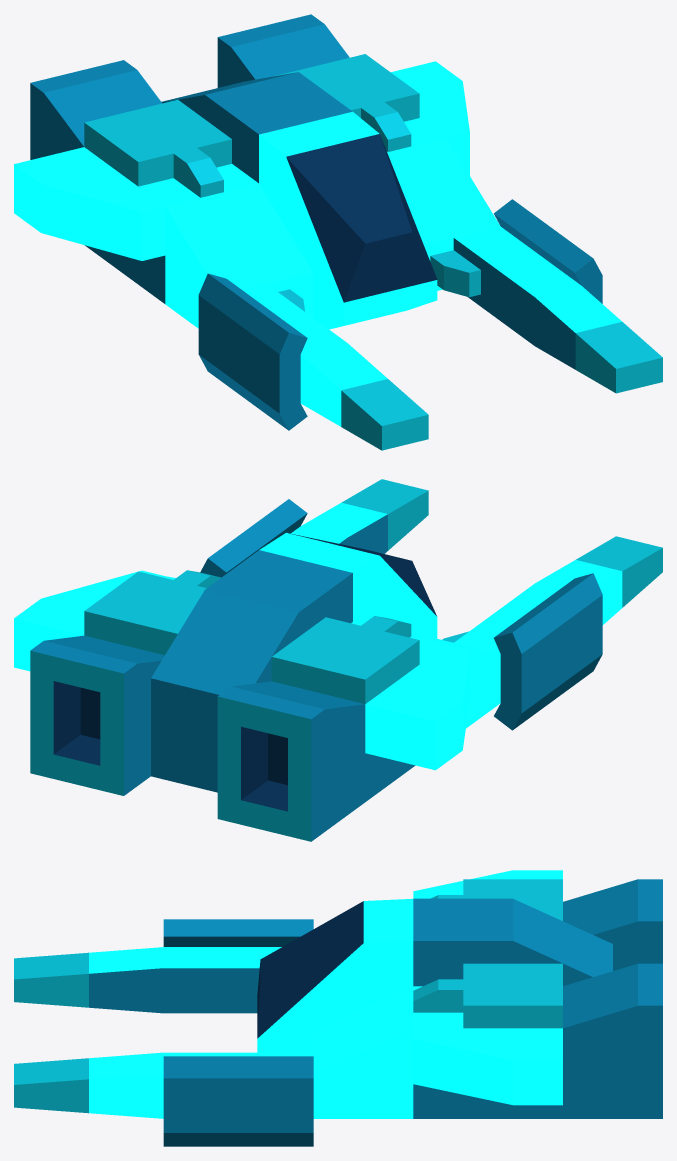
Rendered from ocean.dae.
3 renders of one model, top to bottom at view 1: azimuth 30°, elevation 25°; view 2: azimuth 150°, elevation 25°; view 3: azimuth 270°, elevation 25°, orthographic. The views are drawn at different scales.
Visible parts, largest first — view 1: craft_miner; view 2: craft_miner; view 3: craft_miner.
Boxes of the visible parts, left/top/right/bottom form: craft_miner: left=14, top=14, right=662, bottom=450; craft_miner: left=14, top=479, right=662, bottom=841; craft_miner: left=14, top=870, right=662, bottom=1146.
Bounding box in the file's own units: 1.8 × 0.7 × 2.6.
